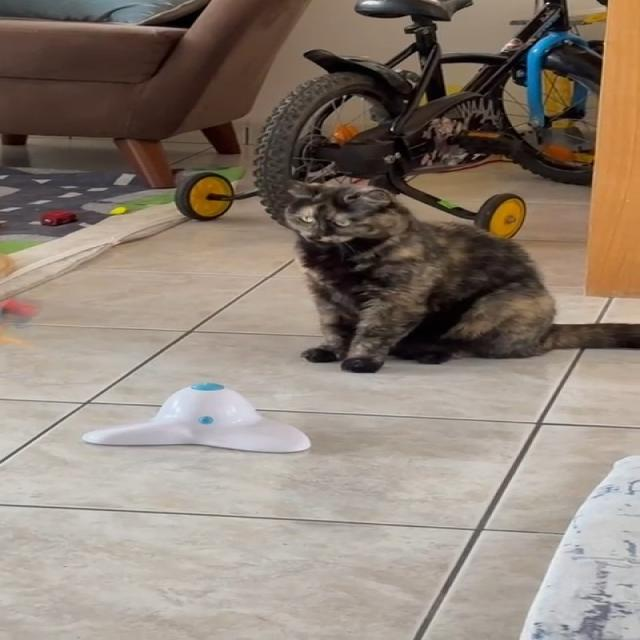authorized: (273, 178, 639, 373)
